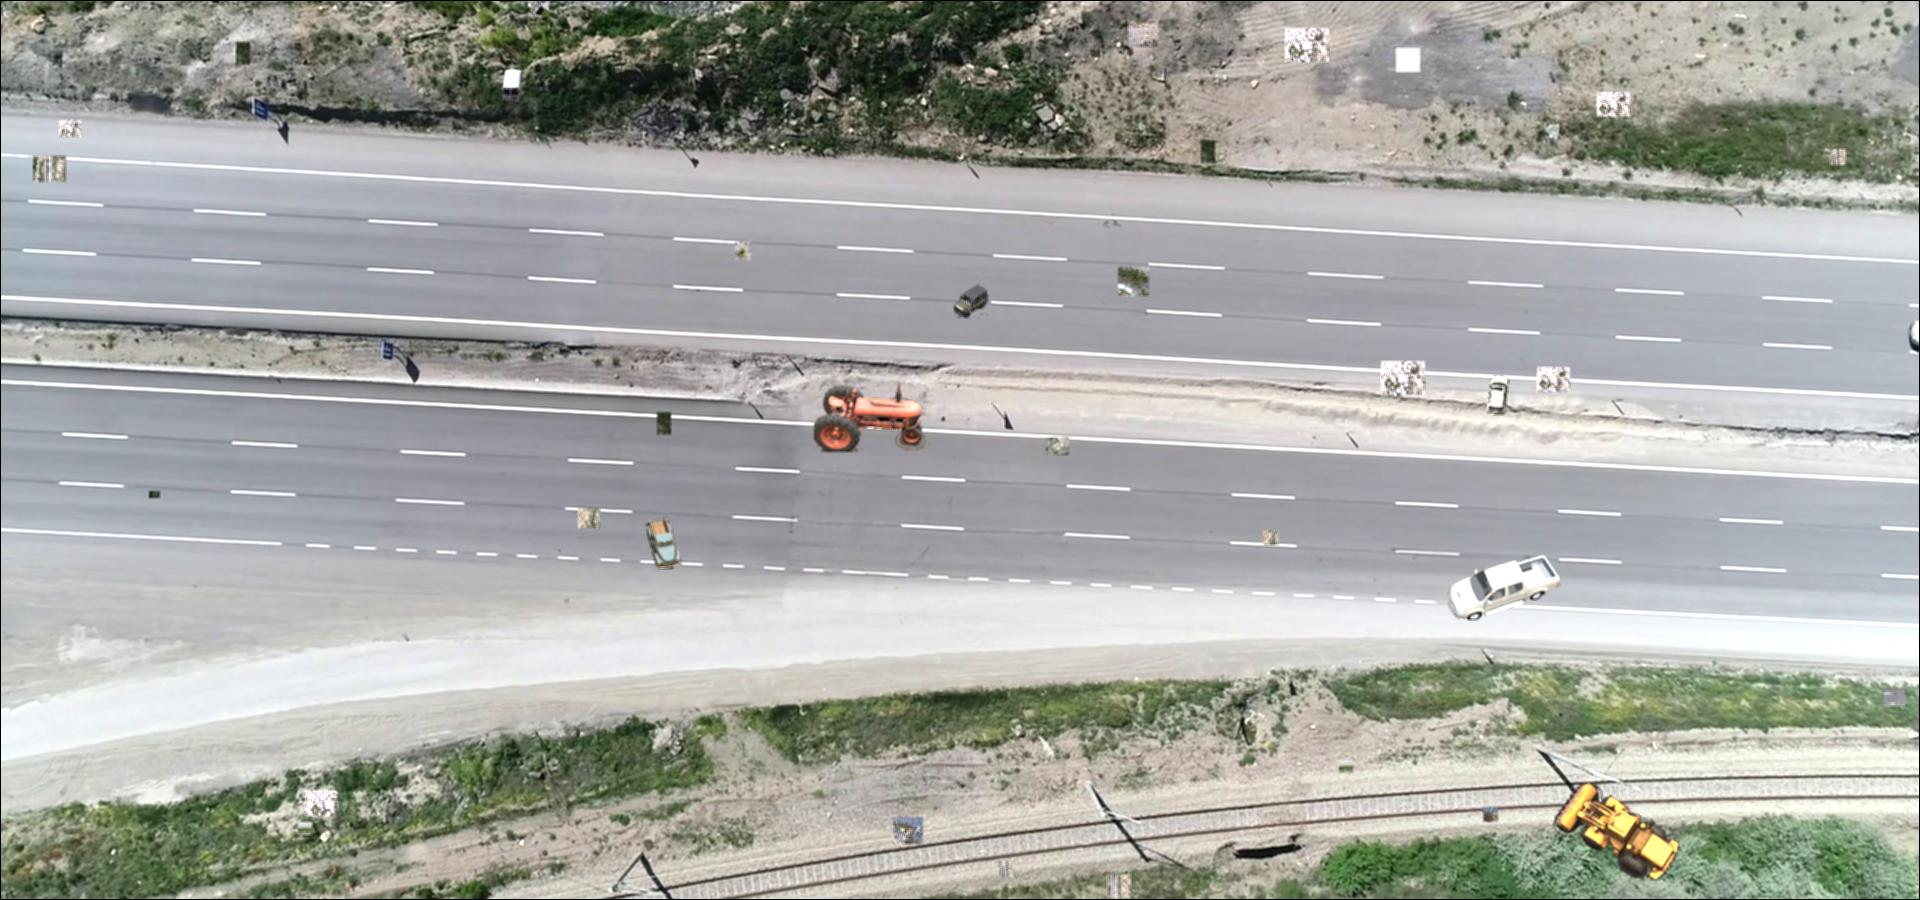arac: (1551, 781, 1689, 882), (814, 383, 931, 452), (1449, 555, 1562, 620), (644, 517, 682, 569), (954, 284, 988, 318), (1485, 375, 1510, 415), (500, 69, 524, 105)
